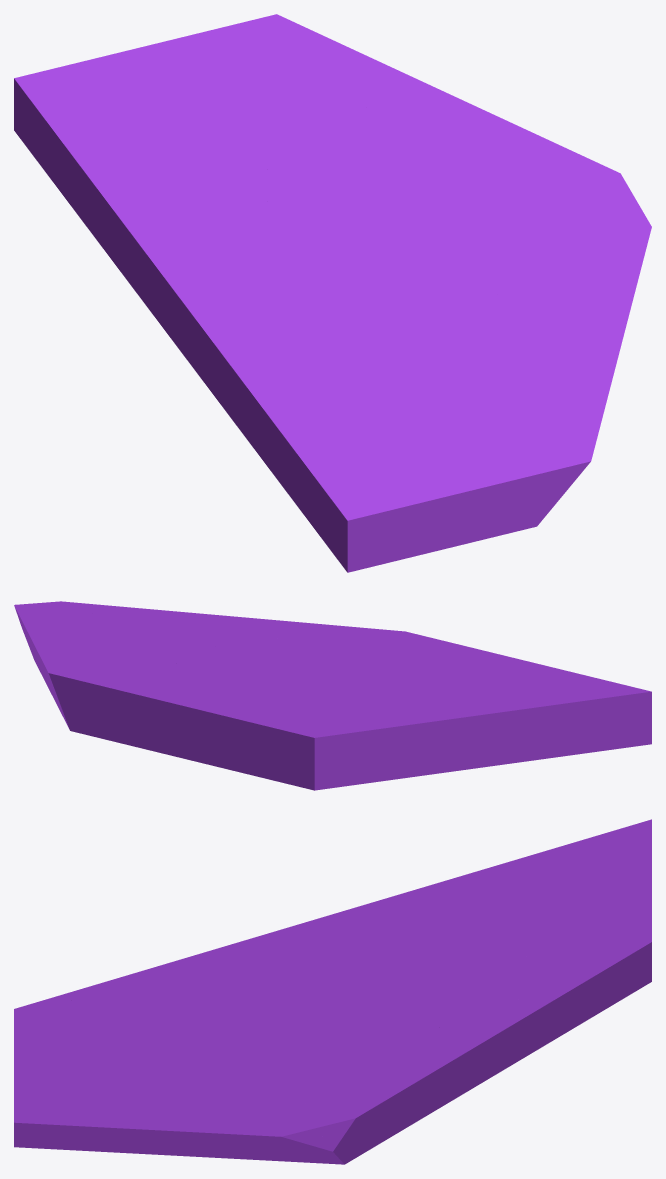
File: Window_166_1_chunks.fbx
3 renders of one model, top to bottom at view 1: azimuth 30°, elevation 25°; view 2: azimuth 150°, elevation 25°; view 3: azimuth 270°, elevation 25°, orthographic. The views are drawn at different scales.
Visible parts, largest first — view 1: Window_166_1_2, Window_166_1_1, Window_166_1_3, Window_166_1_17, Window_166_1_7, Window_166_1_18, Window_166_1_5, Window_166_1_24, Window_166_1_4, Window_166_1_22, Window_166_1_25, Window_166_1_19 (+9 smaller); view 2: Window_166_1_1, Window_166_1_17, Window_166_1_24, Window_166_1_18, Window_166_1_2, Window_166_1_25, Window_166_1_3, Window_166_1_7, Window_166_1_5, Window_166_1_4, Window_166_1_8, Window_166_1_22 (+9 smaller); view 3: Window_166_1_5, Window_166_1_3, Window_166_1_2, Window_166_1_1, Window_166_1_7, Window_166_1_25, Window_166_1_24, Window_166_1_17, Window_166_1_22, Window_166_1_4, Window_166_1_18, Window_166_1_26 (+9 smaller).
Boxes of the visible parts, left/top/right/bottom form: Window_166_1_2: left=329, top=348, right=543, bottom=572; Window_166_1_1: left=14, top=59, right=284, bottom=263; Window_166_1_3: left=489, top=299, right=633, bottom=518; Window_166_1_17: left=189, top=312, right=360, bottom=517; Window_166_1_7: left=311, top=144, right=557, bottom=254; Window_166_1_18: left=107, top=201, right=264, bottom=355; Window_166_1_5: left=428, top=94, right=643, bottom=227; Window_166_1_24: left=91, top=38, right=314, bottom=162; Window_166_1_4: left=375, top=244, right=523, bottom=366; Window_166_1_22: left=519, top=213, right=651, bottom=325; Window_166_1_25: left=179, top=14, right=395, bottom=77; Window_166_1_19: left=241, top=234, right=364, bottom=394; Window_166_1_1: left=205, top=682, right=416, bottom=790; Window_166_1_17: left=458, top=680, right=634, bottom=759; Window_166_1_24: left=141, top=673, right=253, bottom=763; Window_166_1_18: left=327, top=691, right=496, bottom=776; Window_166_1_2: left=354, top=647, right=651, bottom=746; Window_166_1_25: left=37, top=649, right=147, bottom=749; Window_166_1_3: left=168, top=610, right=470, bottom=648; Window_166_1_7: left=111, top=623, right=269, bottom=677; Window_166_1_5: left=14, top=602, right=127, bottom=697; Window_166_1_4: left=217, top=638, right=408, bottom=673; Window_166_1_8: left=502, top=714, right=636, bottom=764; Window_166_1_22: left=50, top=601, right=267, bottom=635; Window_166_1_5: left=300, top=1023, right=514, bottom=1139; Window_166_1_3: left=14, top=1067, right=199, bottom=1155; Window_166_1_2: left=14, top=998, right=215, bottom=1147; Window_166_1_1: left=411, top=819, right=651, bottom=956; Window_166_1_7: left=308, top=970, right=452, bottom=1091; Window_166_1_25: left=540, top=896, right=651, bottom=1040; Window_166_1_24: left=460, top=855, right=651, bottom=969; Window_166_1_17: left=49, top=922, right=306, bottom=1006; Window_166_1_22: left=176, top=1076, right=301, bottom=1158; Window_166_1_4: left=160, top=1011, right=321, bottom=1081; Window_166_1_18: left=299, top=872, right=473, bottom=950; Window_166_1_26: left=448, top=968, right=551, bottom=1063.
Bounding box in the file's own units: 919 × 482 × 1165.
